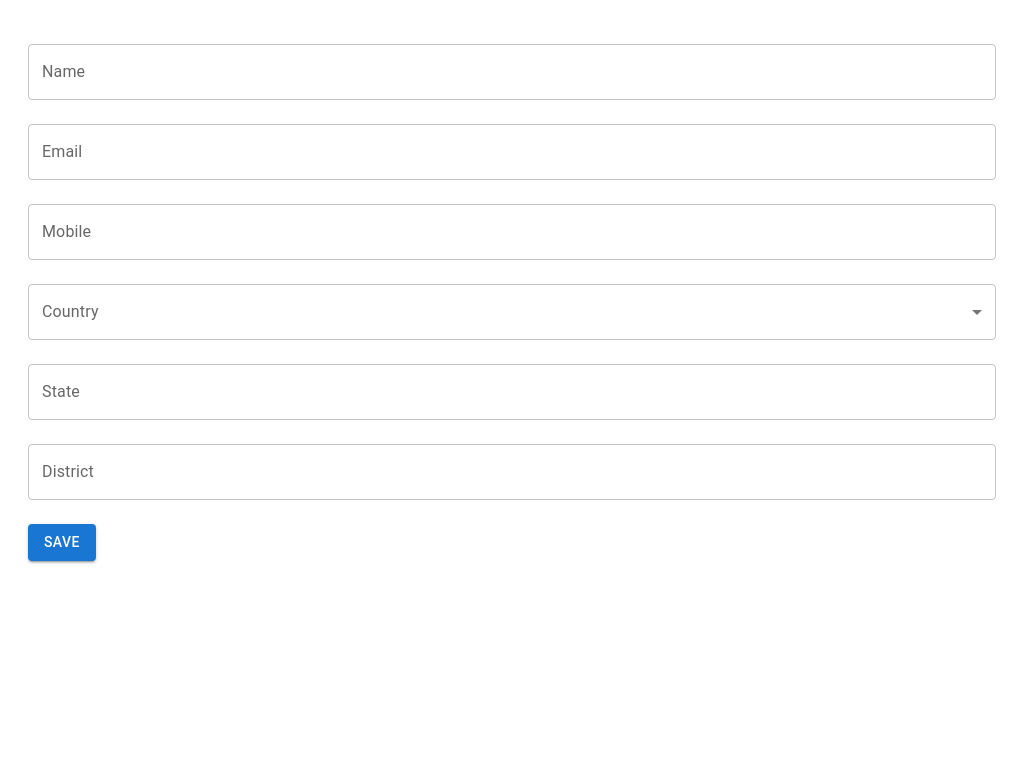
Test case: EmployeeForm › validates email format
Type "invalid-email" into the field labelled "Email". click: (512, 152)
box: [28,124,996,180]
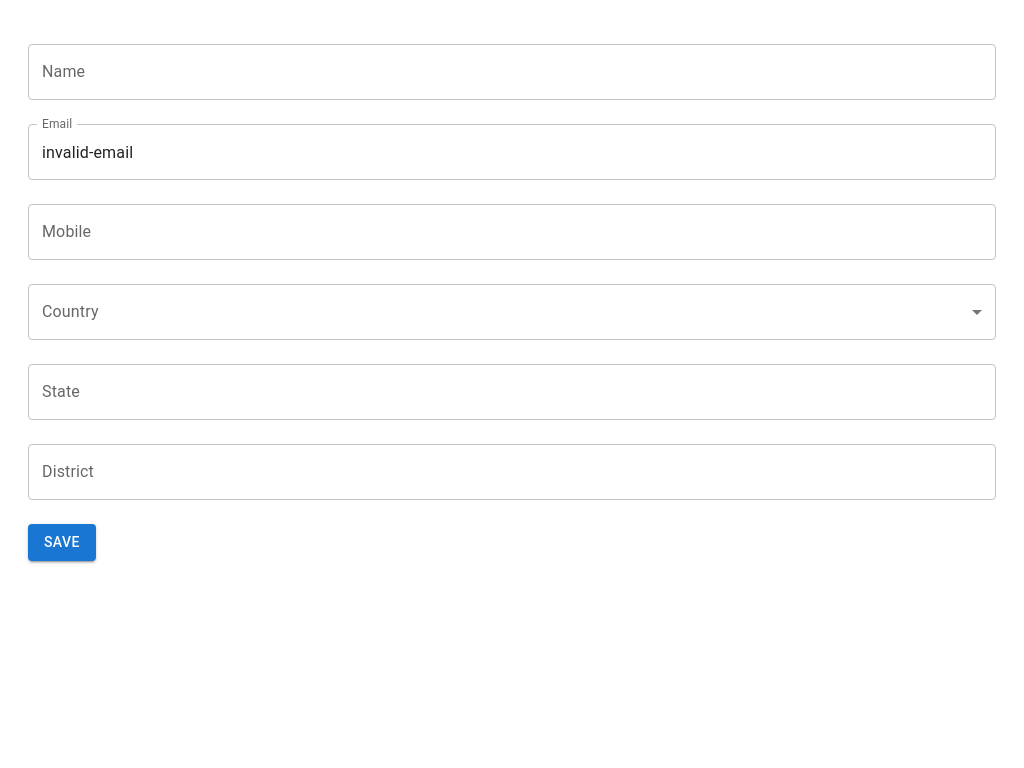
Click the button "Save". click: (62, 542)
box: [28,524,96,560]
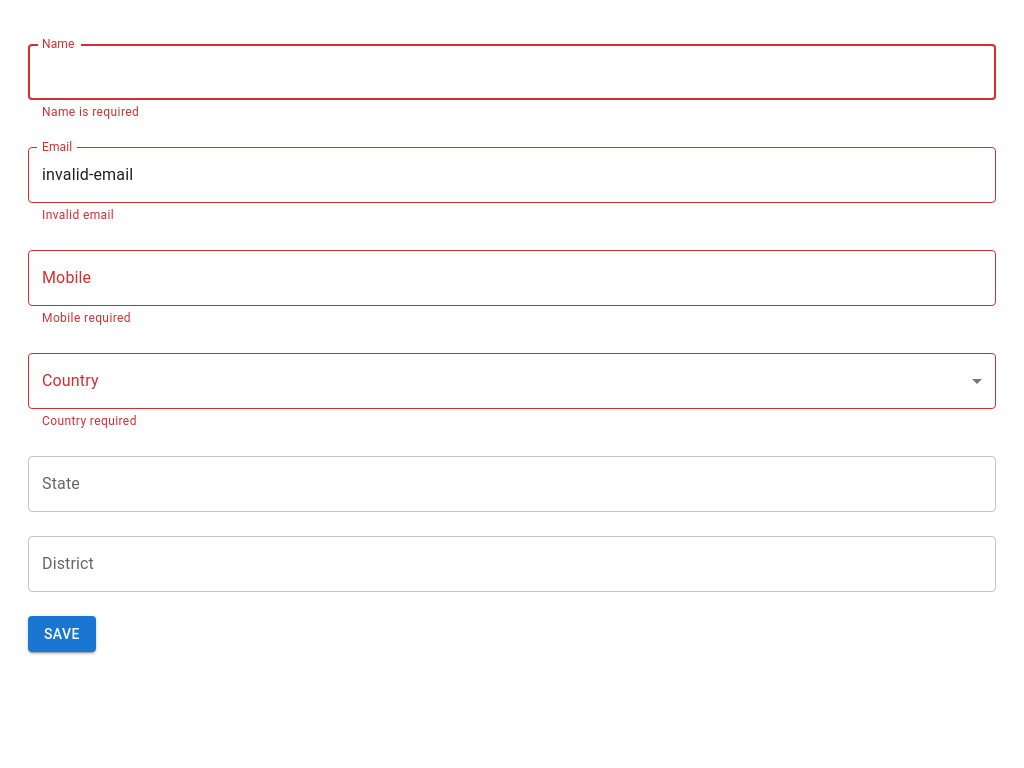
Expected: the text "Invalid email" is shown, [42,208,114,222]
